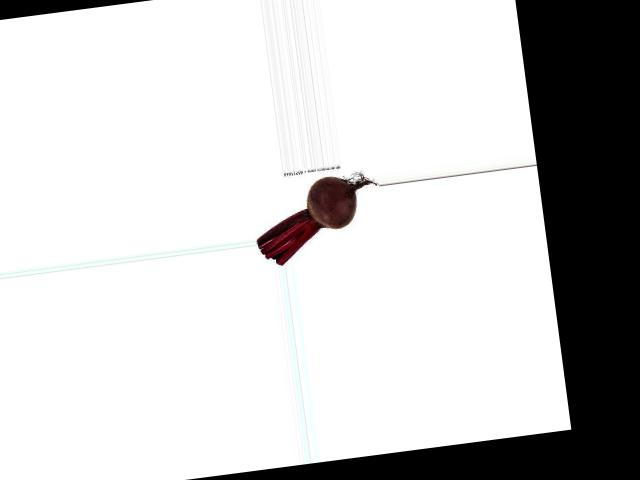beet: (249, 170, 385, 267)
